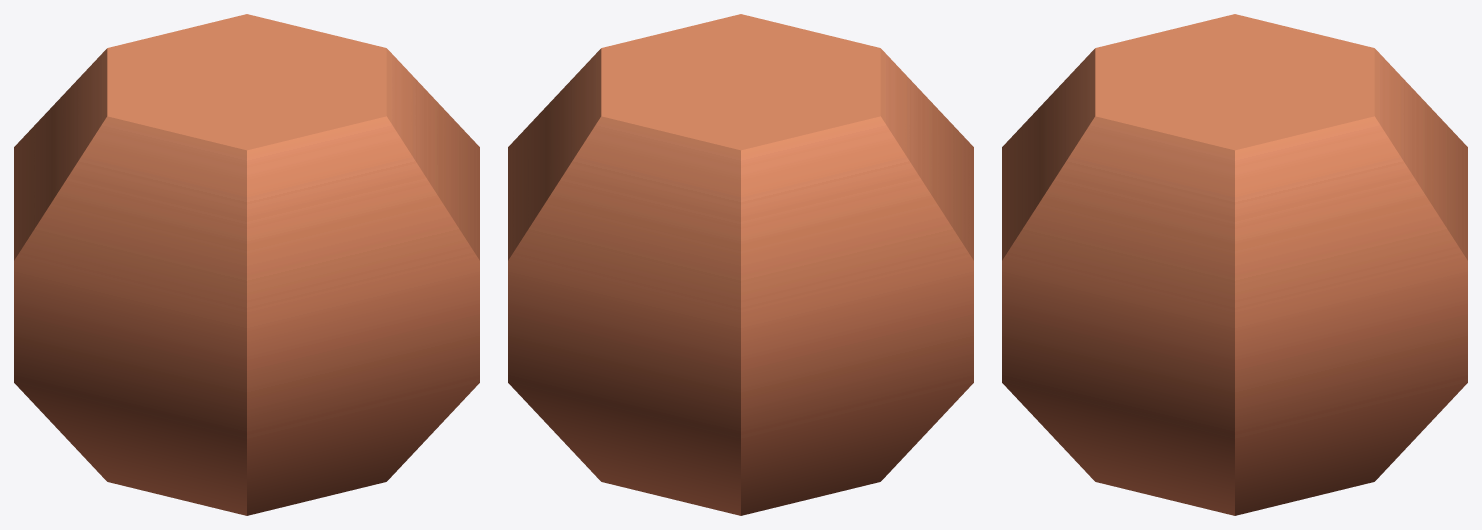
The model's file is p-tower-weapon-ammo-boulder.glb.
3 renders of one model, left to right at view 1: azimuth 30°, elevation 25°; view 2: azimuth 150°, elevation 25°; view 3: azimuth 270°, elevation 25°, orthographic.
Visible parts, largest first — view 1: weapon-ammo-boulder; view 2: weapon-ammo-boulder; view 3: weapon-ammo-boulder.
Boxes of the visible parts, bbox=[...] form: weapon-ammo-boulder: bbox=[14, 14, 479, 515]; weapon-ammo-boulder: bbox=[508, 14, 973, 515]; weapon-ammo-boulder: bbox=[1002, 14, 1467, 515].
Bounding box in the file's own units: 0.32 × 0.24 × 0.2771.
Materials: 1 (1 with a texture image).
